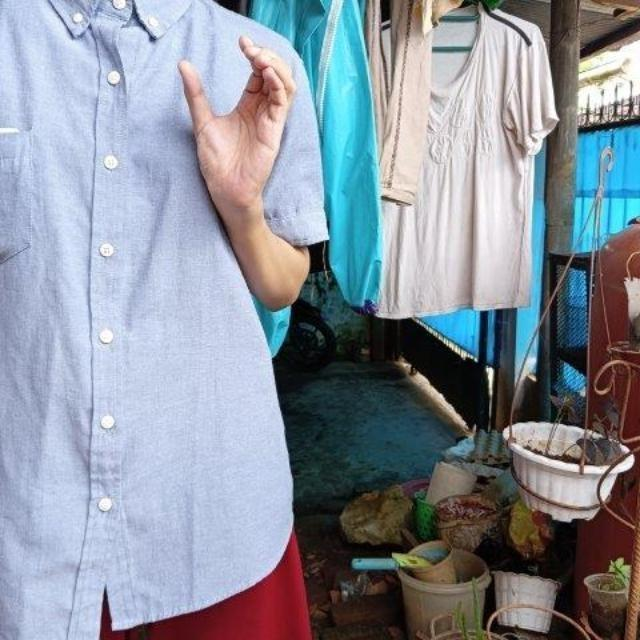U: (167, 26, 296, 163)
